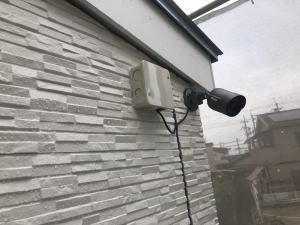tutu: (208, 82, 251, 123)
